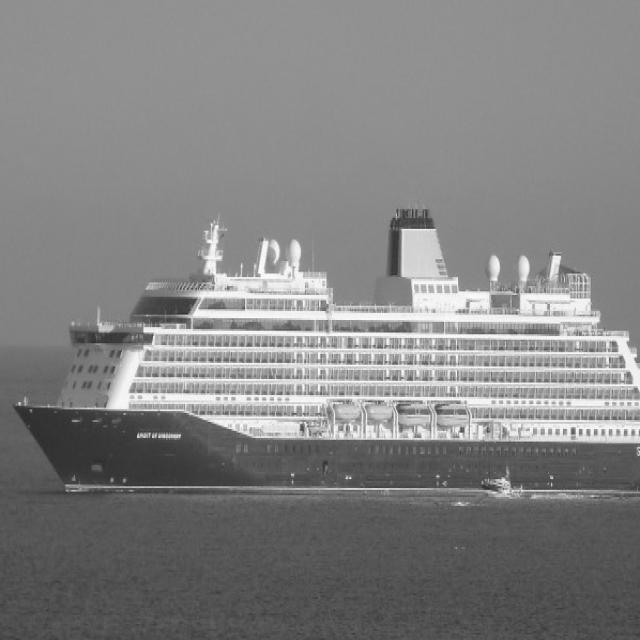cruises: (10, 204, 640, 517)
